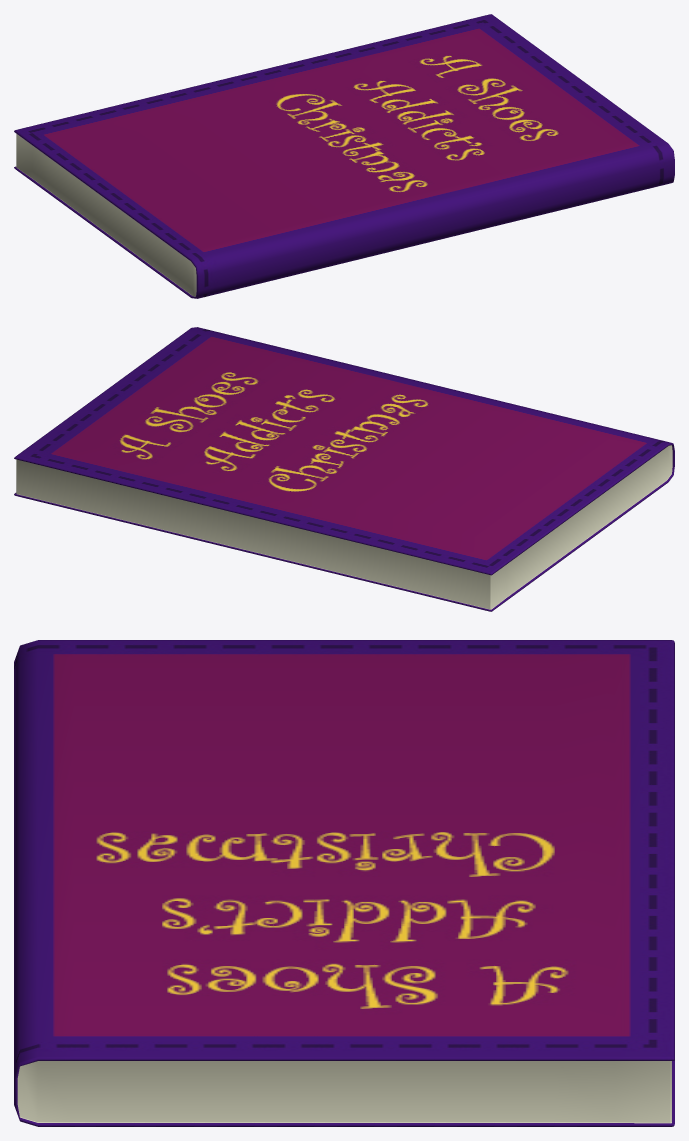
File: PurpleBook_Naughty_1.FBX
The picture shows the model from 3 angles, top to bottom: view 1: azimuth 30°, elevation 25°; view 2: azimuth 150°, elevation 25°; view 3: azimuth 270°, elevation 25°; orthographic projection. The views are drawn at different scales.
Parts seen in each view (by area): view 1: PurpleBook; view 2: PurpleBook; view 3: PurpleBook.
Part boxes in pixels (left/top/right/bottom): PurpleBook: left=14, top=14, right=674, bottom=298; PurpleBook: left=14, top=327, right=674, bottom=611; PurpleBook: left=14, top=640, right=674, bottom=1126.
Bounding box in the file's own units: 9 × 0.7 × 6.
